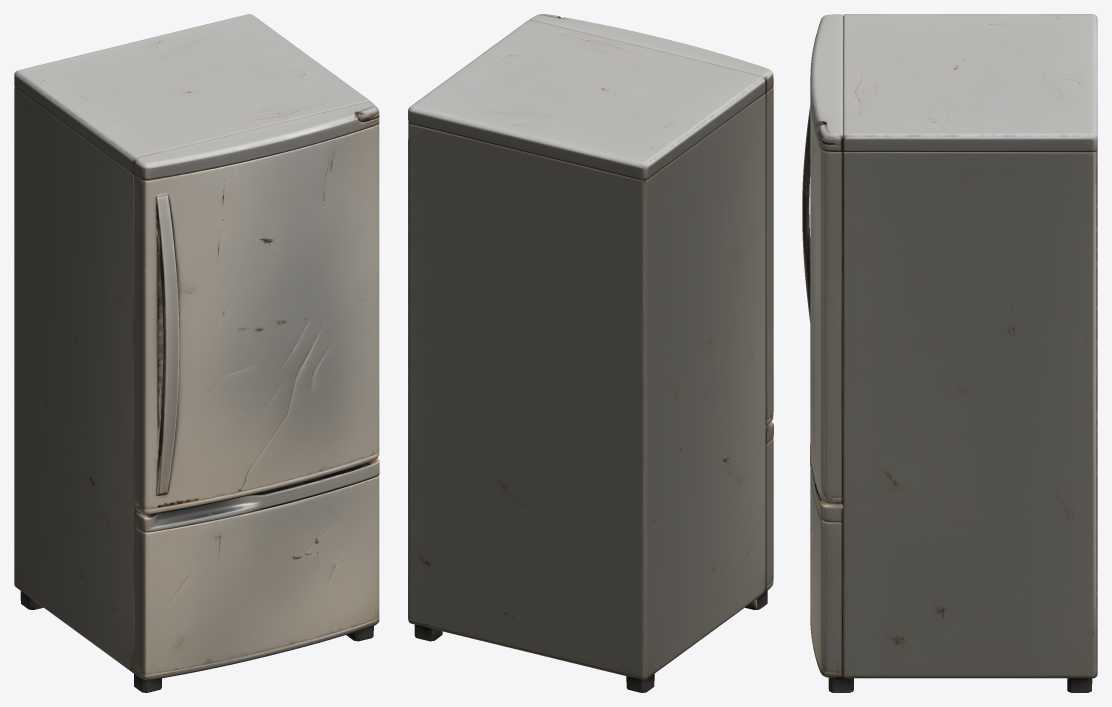
The model's file is SM_Refrigerator.fbx.
3 views of the same model, side by side, from view 1: azimuth 30°, elevation 25°; view 2: azimuth 150°, elevation 25°; view 3: azimuth 270°, elevation 25° (orthographic). The views are drawn at different scales.
Parts seen in each view (by area): view 1: Mesh_0; view 2: Mesh_0; view 3: Mesh_0.
Part boxes in pixels (x1,y1,x2,y2): Mesh_0: (14,14,379,692); Mesh_0: (408,14,773,692); Mesh_0: (802,14,1097,692).
Bounding box in the file's own units: 47.33 × 101 × 48.07.
Materials: 1 (1 with a texture image).
